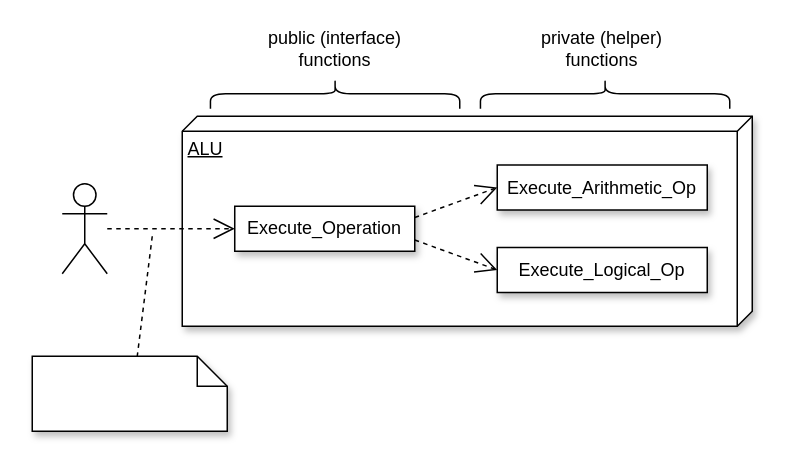
Some shapes in this 789 by 468 pixel diagram are drawn without their labels. The centre of each missing label's shape, as x and y in pixels:
"CPU core" belongs at (x=84, y=228).
"Data processing instruction (32 bits), operands, flags" belongs at (x=130, y=395).
